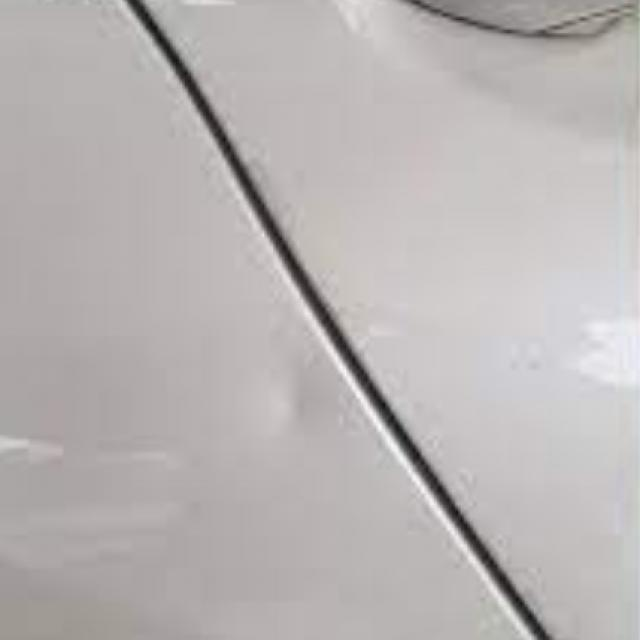dents: (250, 343, 365, 489)
